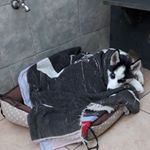puppy: (102, 46, 143, 97)
